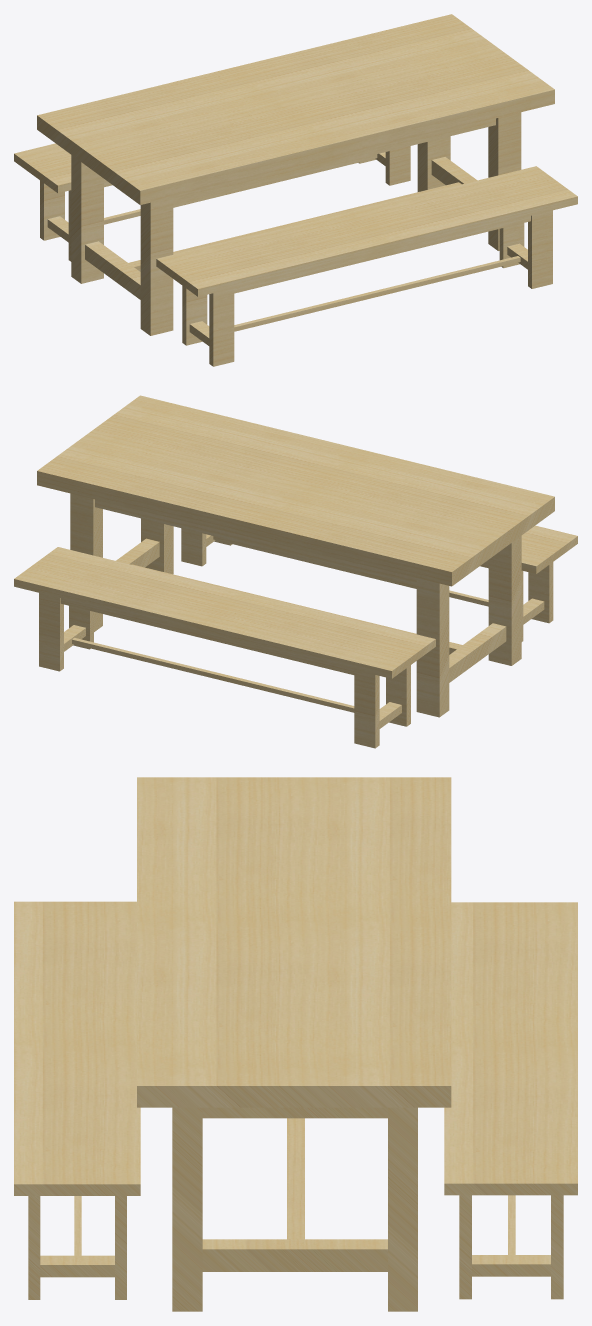
File: mesa_madera.glb
The picture shows the model from 3 angles, top to bottom: view 1: azimuth 30°, elevation 25°; view 2: azimuth 150°, elevation 25°; view 3: azimuth 270°, elevation 25°; orthographic projection. The views are drawn at different scales.
Parts seen in each view (by area): view 1: mesa_madera; view 2: mesa_madera; view 3: mesa_madera.
Part boxes in pixels (x1,y1,x2,y2): mesa_madera: (14,14,577,366); mesa_madera: (14,395,577,748); mesa_madera: (14,777,577,1311).
Size of the model in its own units: 202 by 74 by 156.
Materials: 1 (1 with a texture image).
